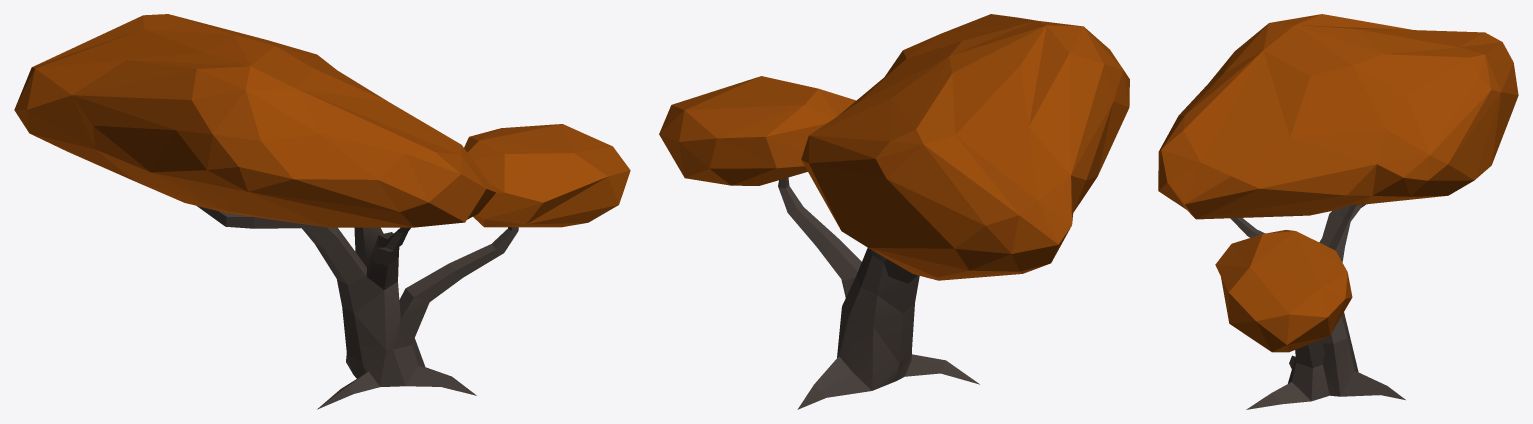
Rendered from SM_Oak_03.fbx.
The picture shows the model from 3 angles, left to right: view 1: azimuth 30°, elevation 25°; view 2: azimuth 150°, elevation 25°; view 3: azimuth 270°, elevation 25°; orthographic projection. The views are drawn at different scales.
Visible parts, largest first — view 1: SM_Oak_03; view 2: SM_Oak_03; view 3: SM_Oak_03.
Boxes of the visible parts, x1,y1,x2,y2 form: SM_Oak_03: [14, 14, 630, 409]; SM_Oak_03: [659, 14, 1129, 409]; SM_Oak_03: [1158, 14, 1518, 409].
Size of the model in its own units: 1934 by 1353 by 1451.
